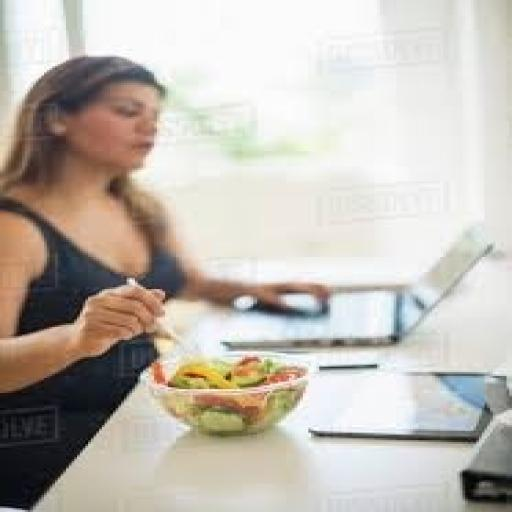eating: (0, 53, 333, 510)
